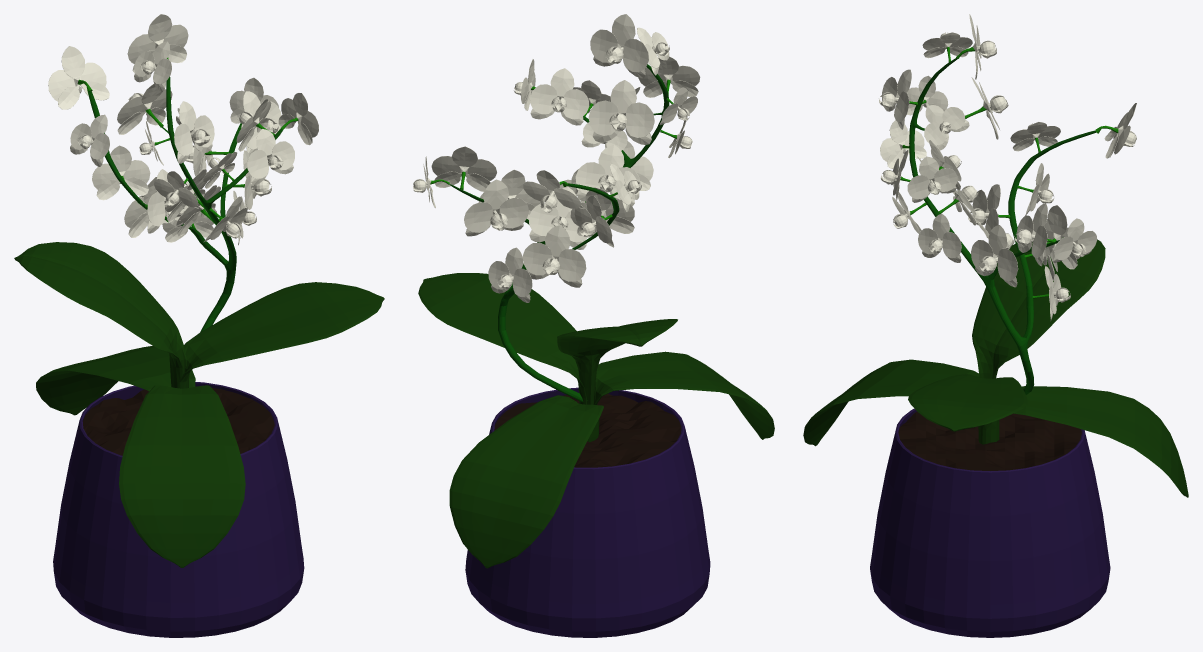
Rendered from orchids.obj.
3 renders of one model, left to right at view 1: azimuth 30°, elevation 25°; view 2: azimuth 150°, elevation 25°; view 3: azimuth 270°, elevation 25°, orthographic. The views are drawn at different scales.
Visible parts, largest first — view 1: Pot_Cylinder, Leaf.001_Plane.001, Leaf.002_Plane.002, Leaf.003_Plane.003, Leaf_Plane, Pot.001_Cylinder.003, stalk_Cylinder.002, Flower.024_Plane.029, Flower.022_Plane.027, Flower.012_Plane.017, Flower.003_Plane.008, Flower.008_Plane.013 (+16 smaller); view 2: Pot_Cylinder, Leaf_Plane, Leaf.002_Plane.002, Pot.001_Cylinder.003, Leaf.001_Plane.001, Leaf.003_Plane.003, Flower.011_Plane.016, stalk_Cylinder.002, Flower.020_Plane.025, Flower.016_Plane.021, Flower.012_Plane.017, Flower.006_Plane.011 (+15 smaller); view 3: Pot_Cylinder, Leaf_Plane, Pot.001_Cylinder.003, Leaf.003_Plane.003, Leaf.002_Plane.002, Leaf.001_Plane.001, stalk_Cylinder.002, Flower.015_Plane.020, Flower.005_Plane.010, Flower_Plane.005, Flower.018_Plane.023, Flower.009_Plane.014 (+15 smaller).
Part boxes in pixels (x1,y1,x2,y2): Pot_Cylinder: (53, 382, 304, 637); Leaf.001_Plane.001: (119, 385, 245, 567); Leaf.002_Plane.002: (178, 282, 384, 388); Leaf.003_Plane.003: (14, 242, 186, 388); Leaf_Plane: (36, 345, 195, 415); Pot.001_Cylinder.003: (82, 386, 274, 455); stalk_Cylinder.002: (88, 76, 282, 332); Flower.024_Plane.029: (48, 46, 109, 109); Flower.022_Plane.027: (92, 145, 150, 200); Flower.012_Plane.017: (127, 14, 188, 73); Flower.003_Plane.008: (247, 129, 294, 184); Flower.008_Plane.013: (173, 101, 214, 163); Pot_Cylinder: (465, 387, 710, 637); Leaf_Plane: (449, 395, 603, 568); Leaf.002_Plane.002: (418, 273, 596, 404); Pot.001_Cylinder.003: (494, 393, 681, 467); Leaf.001_Plane.001: (594, 351, 774, 439); Leaf.003_Plane.003: (557, 319, 677, 404); Flower.011_Plane.016: (588, 80, 654, 144); stalk_Cylinder.002: (449, 64, 669, 402); Flower.020_Plane.025: (522, 225, 586, 287); Flower.016_Plane.021: (464, 179, 528, 236); Flower.012_Plane.017: (590, 14, 648, 78); Flower.006_Plane.011: (530, 68, 589, 125); Pot_Cylinder: (870, 408, 1110, 637); Leaf_Plane: (981, 386, 1188, 497); Pot.001_Cylinder.003: (898, 411, 1081, 470); Leaf.003_Plane.003: (972, 239, 1105, 378); Leaf.002_Plane.002: (908, 373, 1027, 431); Leaf.001_Plane.001: (803, 359, 982, 446); stalk_Cylinder.002: (909, 58, 1096, 394); Flower.015_Plane.020: (971, 225, 1018, 287); Flower.005_Plane.010: (907, 156, 957, 202); Flower_Plane.005: (918, 213, 961, 262); Flower.018_Plane.023: (1014, 203, 1055, 266); Flower.009_Plane.014: (924, 105, 969, 150).
Size of the model in its own units: 31.13 by 57.44 by 35.27.
